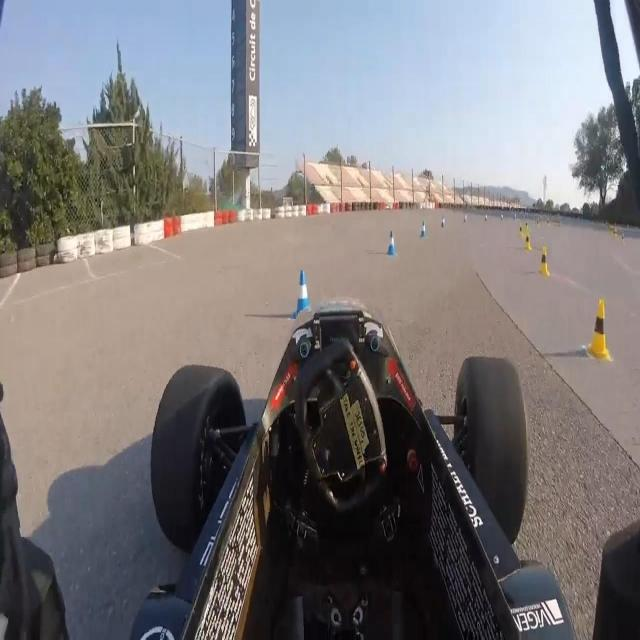blue_cone: (293, 268, 312, 320), (388, 230, 396, 254), (440, 212, 446, 230), (421, 220, 425, 237)
yellow_cone: (588, 298, 607, 360), (537, 245, 550, 278), (524, 228, 531, 252), (518, 220, 523, 238)
